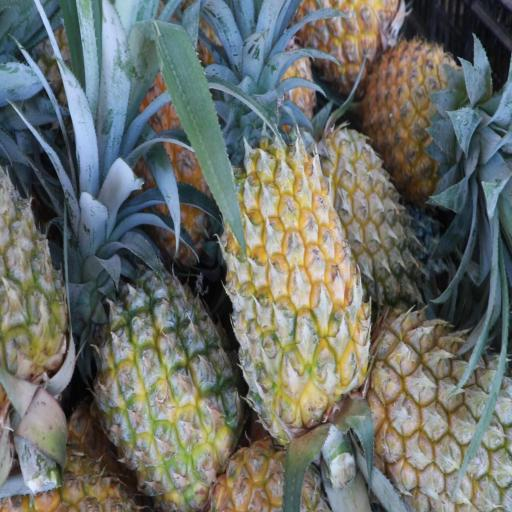Pineapple - v8 v1: (225, 145, 362, 433), (99, 271, 235, 498), (368, 37, 468, 185)
